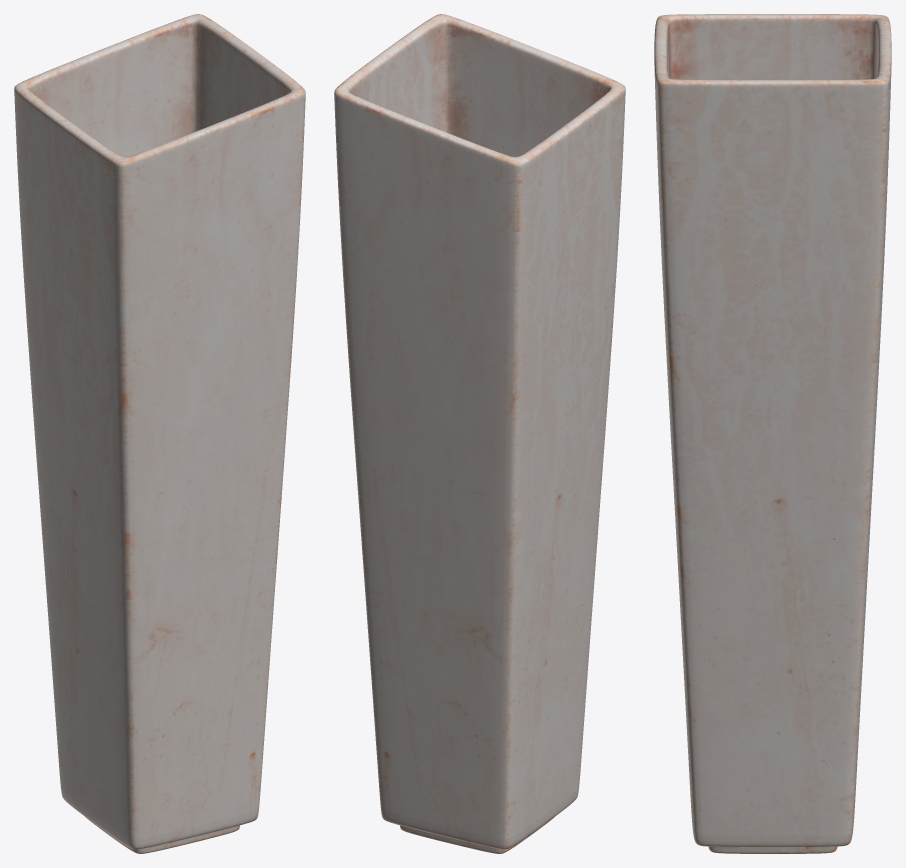
Rendered from ceramic_vase_03.glb.
3 views of the same model, side by side, from view 1: azimuth 30°, elevation 25°; view 2: azimuth 150°, elevation 25°; view 3: azimuth 270°, elevation 25° (orthographic). The views are drawn at different scales.
Parts seen in each view (by area): view 1: ceramic_vase_03; view 2: ceramic_vase_03; view 3: ceramic_vase_03.
Boxes of the visible parts, x1,y1,x2,y2 form: ceramic_vase_03: (14, 14, 305, 853); ceramic_vase_03: (334, 14, 625, 853); ceramic_vase_03: (654, 14, 891, 853).
Size of the model in its own units: 0.1122 by 0.4144 by 0.1122.
1 material, 1 textured.
